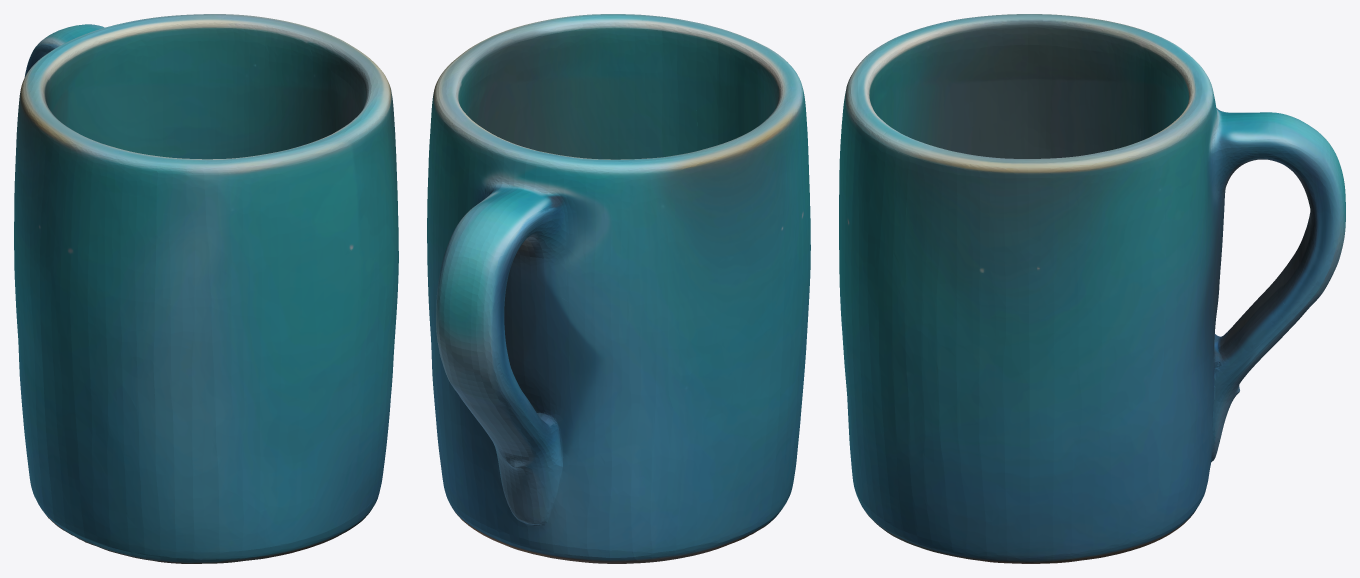
The picture shows the model from 3 angles, left to right: view 1: azimuth 30°, elevation 25°; view 2: azimuth 150°, elevation 25°; view 3: azimuth 270°, elevation 25°; orthographic projection.
Visible parts, largest first — view 1: mug.obj; view 2: mug.obj; view 3: mug.obj.
Boxes of the visible parts, x1,y1,x2,y2 form: mug.obj: (14, 14, 398, 563); mug.obj: (427, 14, 810, 563); mug.obj: (839, 14, 1345, 563).
Size of the model in its own units: 0.0734 by 0.0856 by 0.0967.
Materials: 1 (1 with a texture image).
